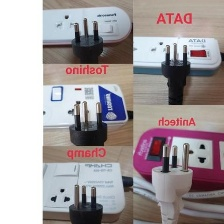three_eye_plug: (131, 116, 224, 198), (38, 158, 128, 222), (41, 81, 129, 134), (37, 3, 134, 49), (131, 35, 223, 79)
